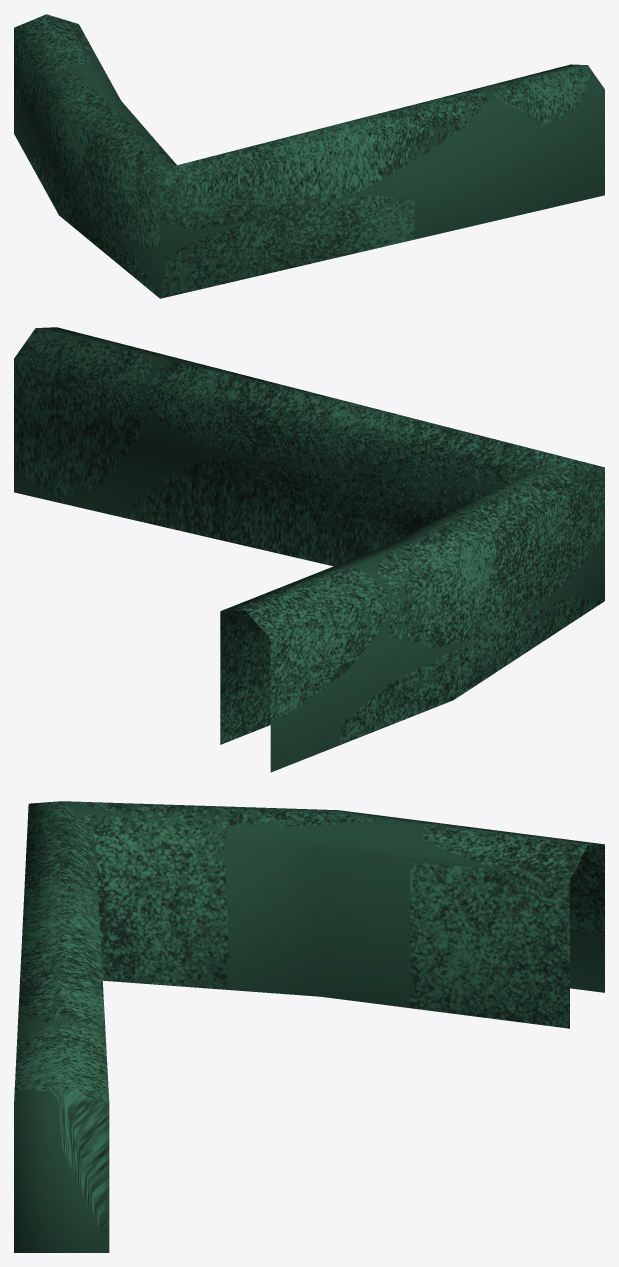
File: Ring1W1.fbx
The picture shows the model from 3 angles, top to bottom: view 1: azimuth 30°, elevation 25°; view 2: azimuth 150°, elevation 25°; view 3: azimuth 270°, elevation 25°; orthographic projection. The views are drawn at different scales.
Visible parts, largest first — view 1: Ring1W1; view 2: Ring1W1; view 3: Ring1W1.
Boxes of the visible parts, bbox=[...] form: Ring1W1: bbox=[14, 14, 604, 298]; Ring1W1: bbox=[14, 327, 604, 772]; Ring1W1: bbox=[14, 801, 604, 1252].
Size of the model in its own units: 1562 by 400 by 1298.
